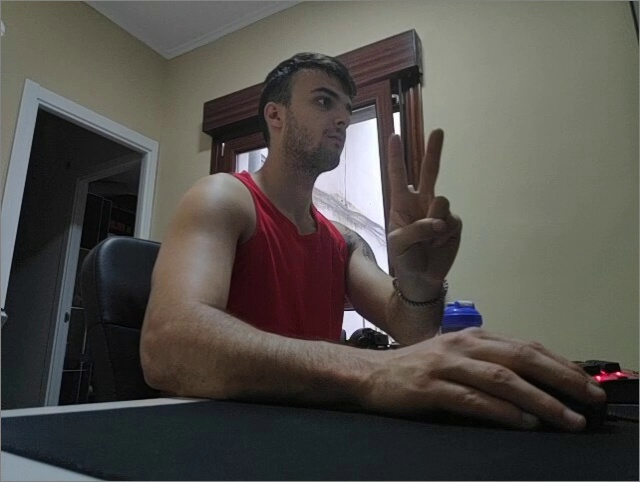Peace: (380, 127, 469, 281)
